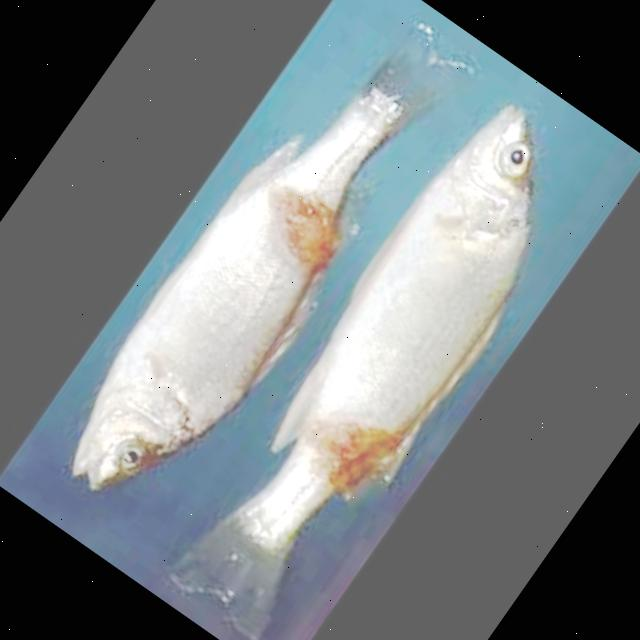Epizootic Ulcerative Syndrome -EUS-: (173, 108, 532, 639), (173, 109, 532, 637), (73, 64, 429, 488)
